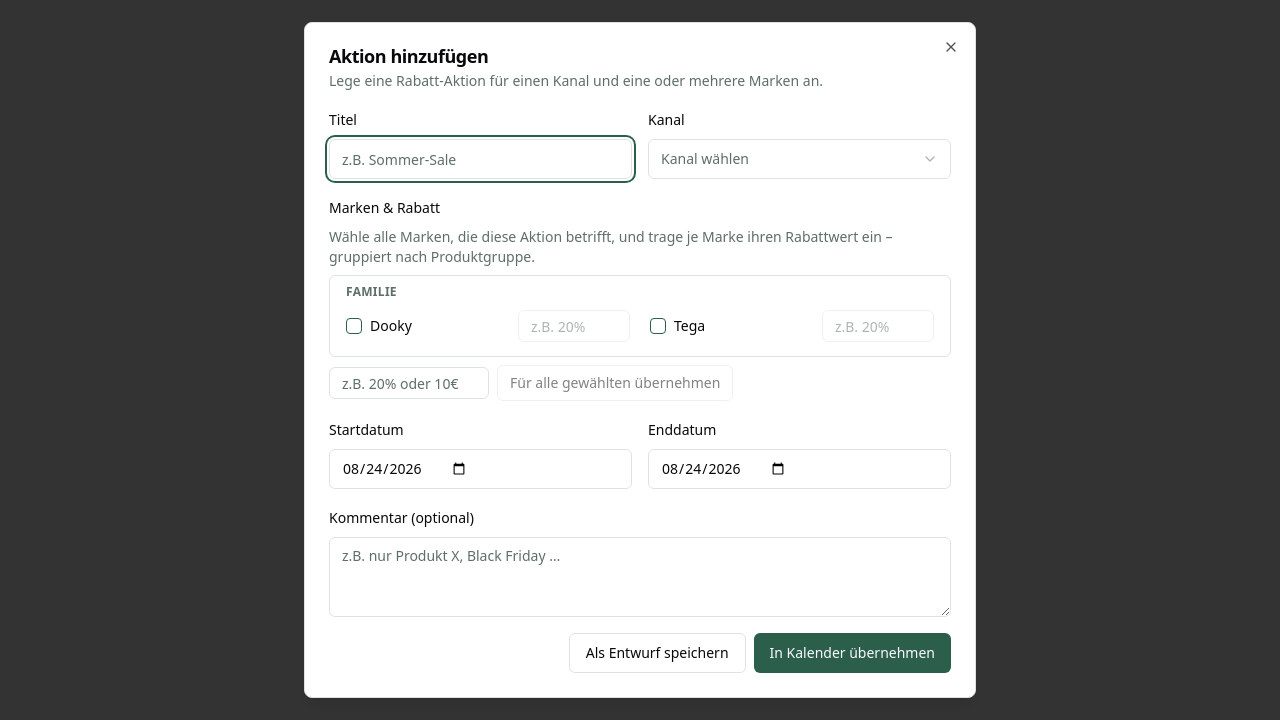
Test case: ActionFormDialog — Rabattwert je Marke (PROJ-12) › refuses to save when a selected brand has no discount value
The width and height of the screenshot is (1280, 720).
Step 1. Type "Sommer-Sale" into the field labelled "Titel" → (480, 159), box [329,139,632,179]
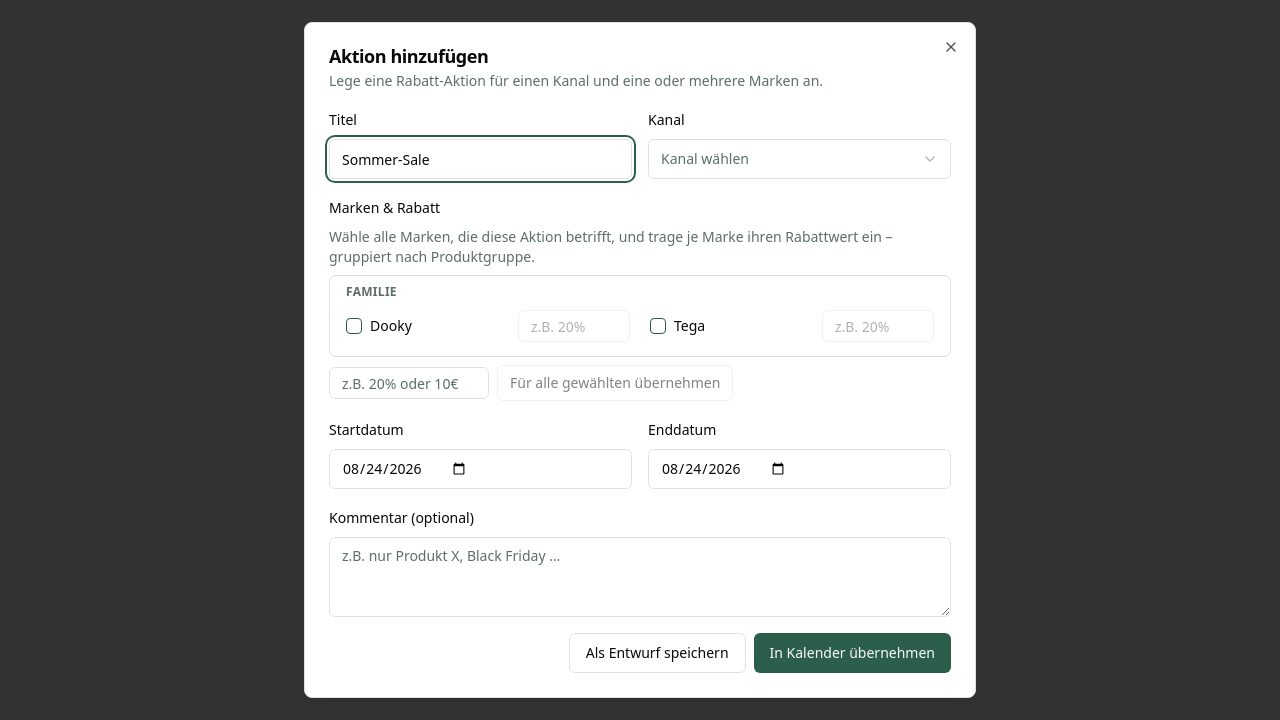
Step 2. Click the checkbox named "Dooky" next to "Dooky" → (354, 326), box [346,318,362,334]
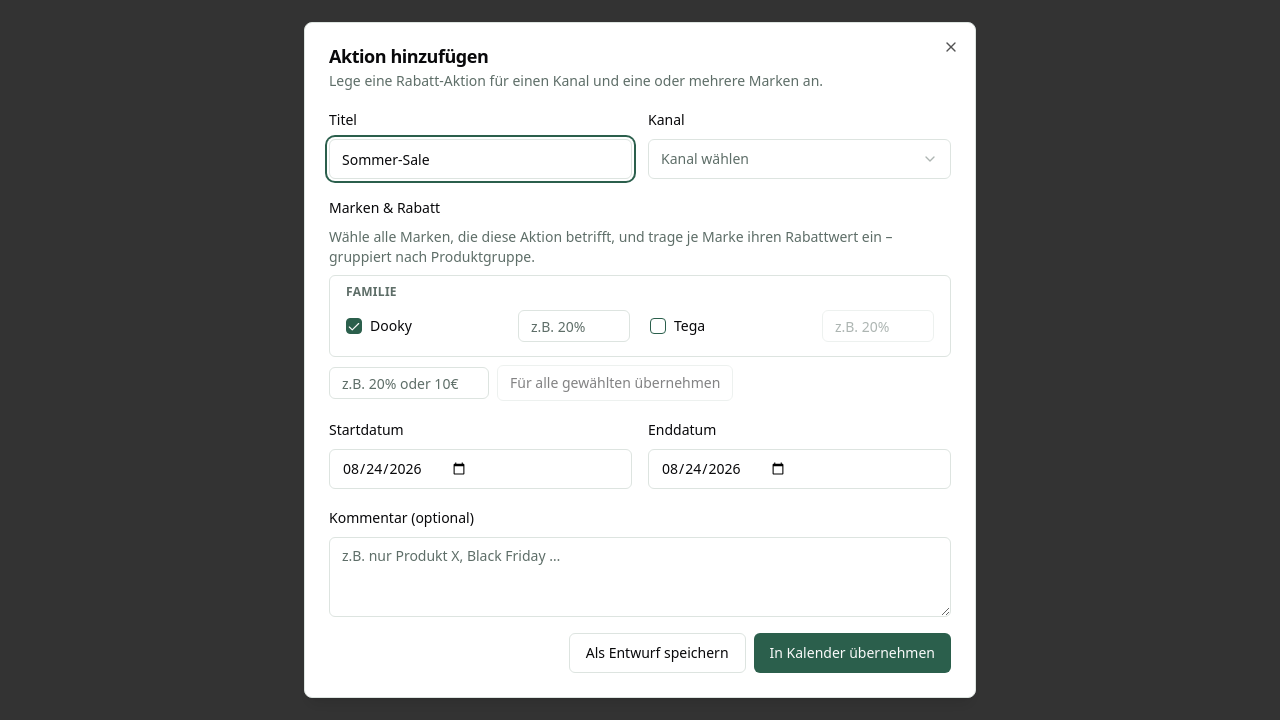
Step 3. Click the button "In Kalender übernehmen" → (852, 653), box [754,633,951,673]
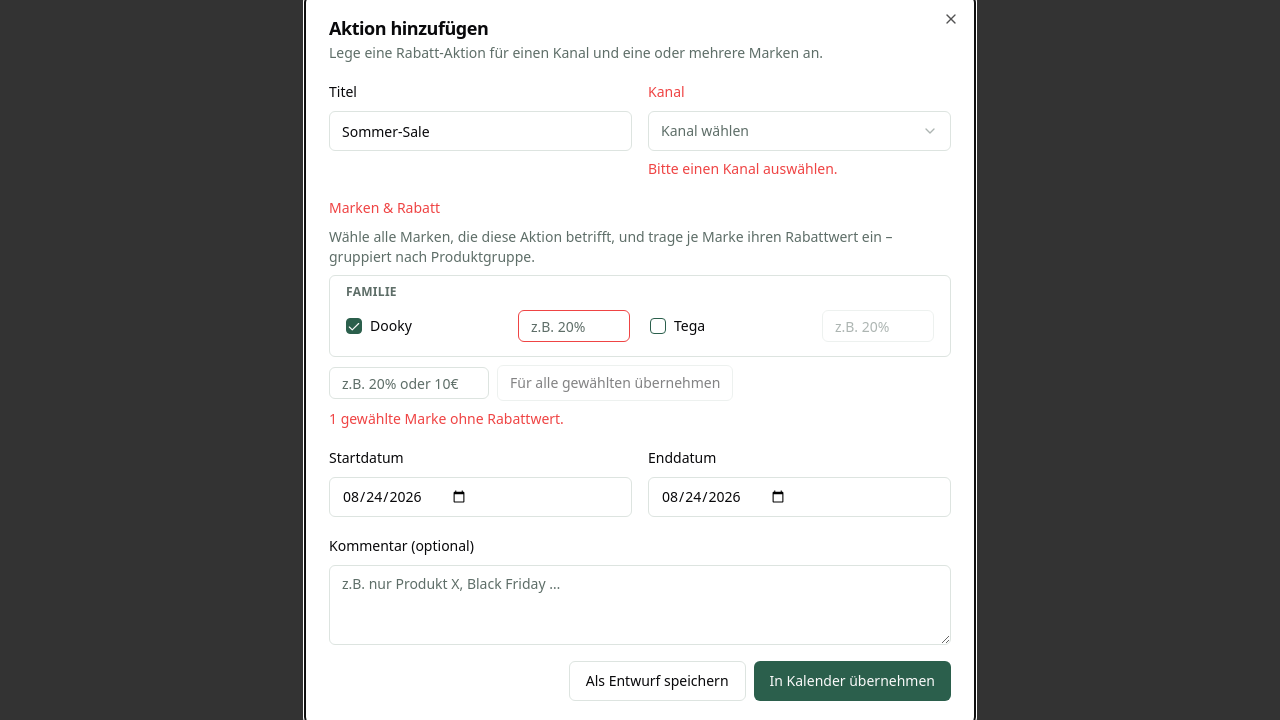
Now the text "1 gewählte Marke ohne Rabattwert." is shown, box [329,409,564,428]
